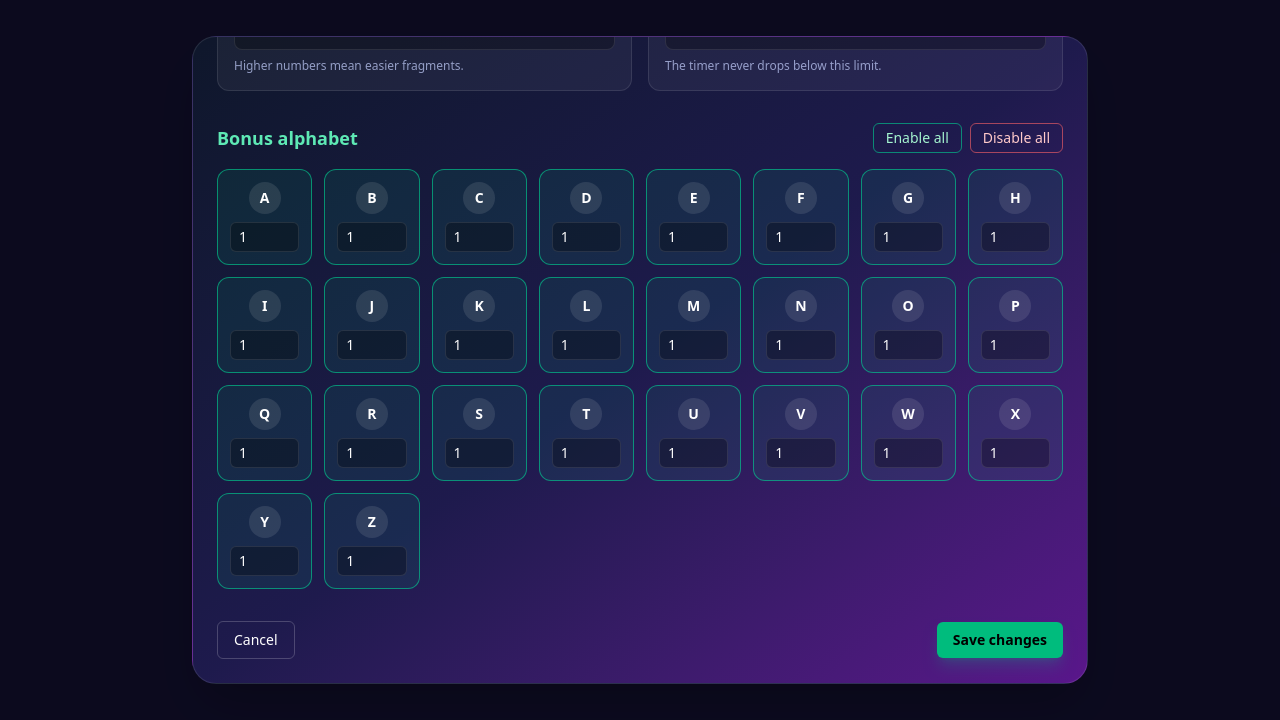
Test case: RoomRulesDialog › shows validation error when startingLives > maxLives and handles server error
(page scrolled)
Click the button "Save changes". click: point(1000, 640)
box: x1=937 y1=622 x2=1063 y2=658
(page scrolled)
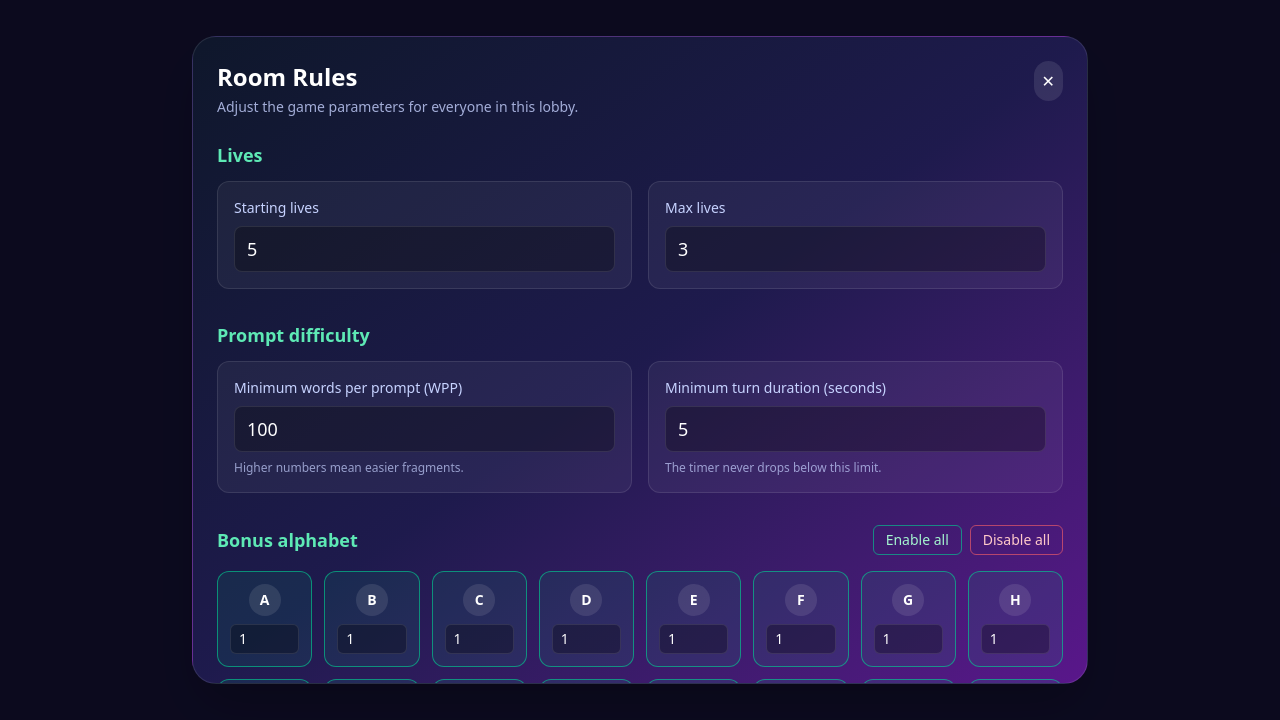
// Fix validation with userEvent for realism (and still fast)
Replace the text in the number field labelled "Max lives" with "6". click: point(856, 249)
box: x1=665 y1=226 x2=1046 y2=272
(page scrolled)
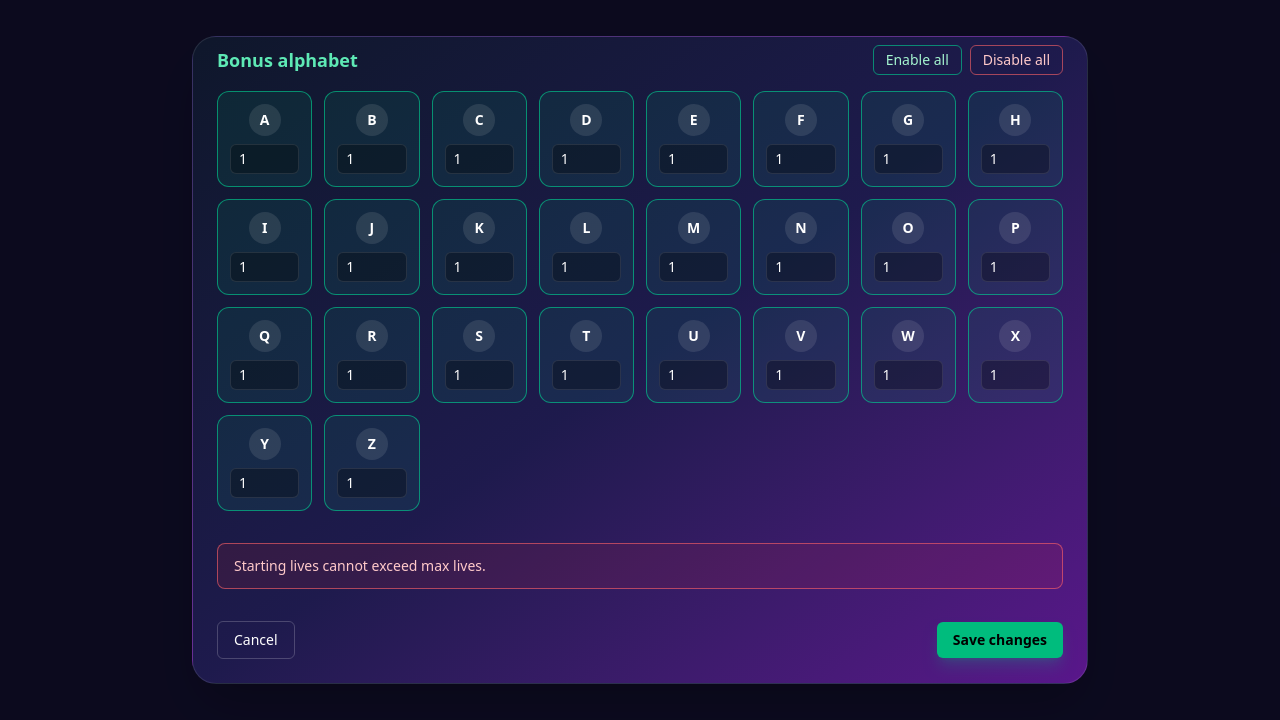
Click the button "Save changes". click: point(1000, 640)
box: x1=937 y1=622 x2=1063 y2=658
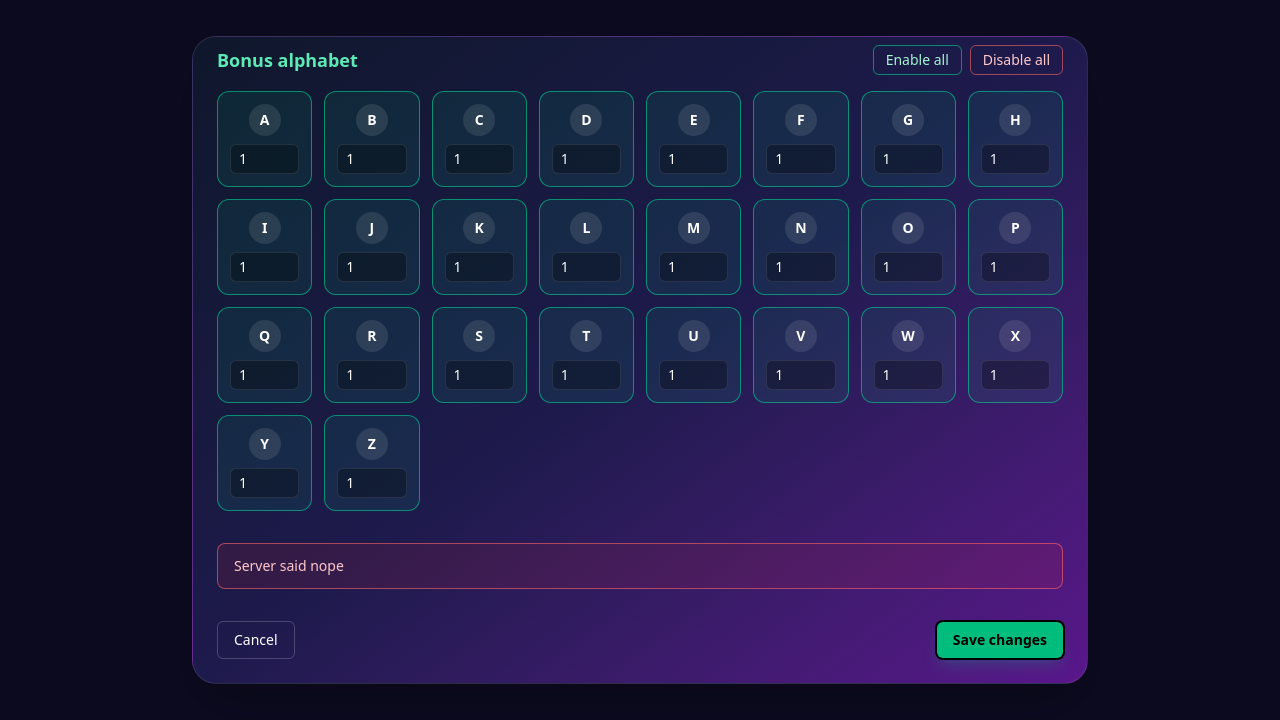
expect the text "Server said nope" is shown: met, box x1=217 y1=543 x2=1063 y2=589
